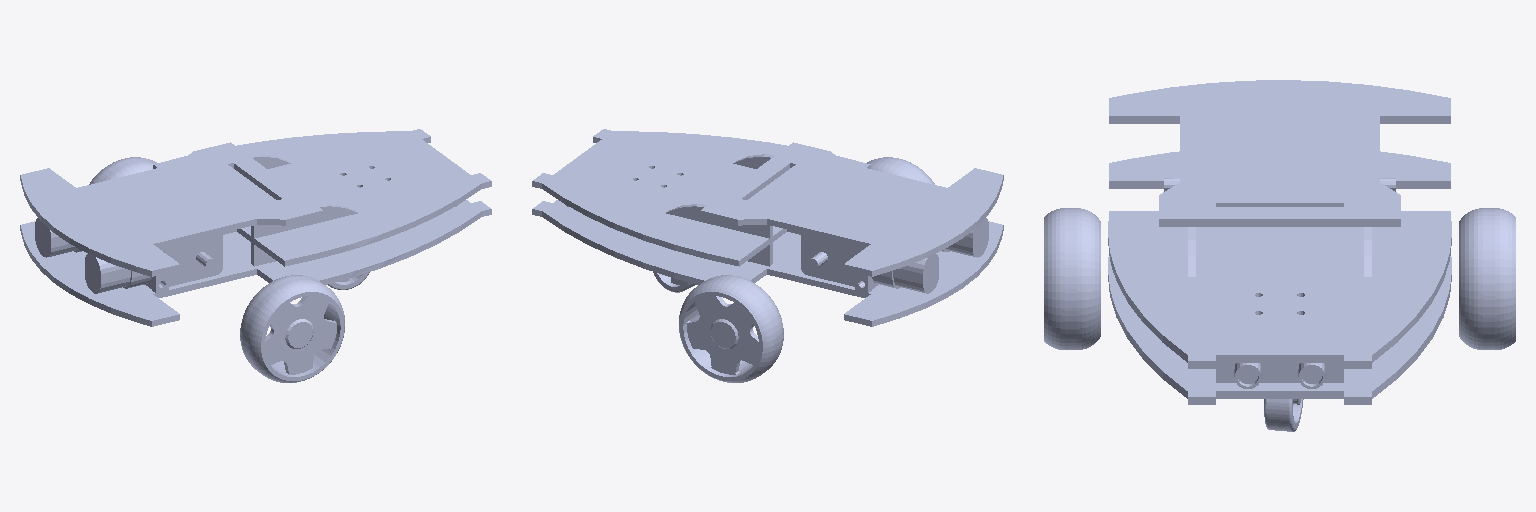
robot.urdf — my_robot_ver3:
<?xml version="1.0"?>
<!-- This URDF was automatically created by SolidWorks to URDF Exporter! Originally created by [author] ([email redacted]) 
     Commit Version: 1.6.0-4-g7f85cfe  Build Version: 1.6.7995.38578
     For more information, please see http://wiki.ros.org/sw_urdf_exporter -->
<robot
  name="my_robot_ver3">
  <link
    name="base_link">
    <inertial>
      <origin
        xyz="-0.0168237810190544 7.13458084972141E-09 -0.00760225410164192"
        rpy="0 0 0" />
      <mass
        value="0.0953373583617677" />
      <inertia
        ixx="5.94842863178214E-05"
        ixy="1.95289627130984E-11"
        ixz="-8.9958564906486E-07"
        iyy="9.86494627792786E-05"
        iyz="-1.60193586284062E-12"
        izz="0.000154178001735707" />
    </inertial>
    <visual>
      <origin
        xyz="0 0 0"
        rpy="0 0 0" />
      <geometry>
        <mesh
          filename="package://my_robot_ver3/meshes/base_link.STL" />
      </geometry>
      <material
        name="">
        <color
          rgba="0.792156862745098 0.819607843137255 0.933333333333333 1" />
      </material>
    </visual>
    <collision>
      <origin
        xyz="0 0 0"
        rpy="0 0 0" />
      <geometry>
        <mesh
          filename="package://my_robot_ver3/meshes/base_link.STL" />
      </geometry>
    </collision>
  </link>
  <link
    name="leftwheel">
    <inertial>
      <origin
        xyz="6.9389E-17 0 0.0064675"
        rpy="0 0 0" />
      <mass
        value="0.014896" />
      <inertia
        ixx="3.4328E-06"
        ixy="-1.3702E-22"
        ixz="2.8683E-21"
        iyy="3.4328E-06"
        iyz="-7.4454E-22"
        izz="6.1544E-06" />
    </inertial>
    <visual>
      <origin
        xyz="0 0 0"
        rpy="0 0 0" />
      <geometry>
        <mesh
          filename="package://my_robot_ver3/meshes/leftwheel.STL" />
      </geometry>
      <material
        name="">
        <color
          rgba="0.79216 0.81961 0.93333 1" />
      </material>
    </visual>
    <collision>
      <origin
        xyz="0 0 0"
        rpy="0 0 0" />
      <geometry>
        <mesh
          filename="package://my_robot_ver3/meshes/leftwheel.STL" />
      </geometry>
    </collision>
  </link>
  <joint
    name="left_wheel"
    type="continuous">
    <origin
      xyz="-0.018999 0.0808 -0.0141"
      rpy="1.5708 0 0" />
    <parent
      link="base_link" />
    <child
      link="leftwheel" />
    <axis
      xyz="0 0 -1" />
    <limit
      effort="10"
      velocity="10" />
    <dynamics
      damping="0.1"
      friction="0.1" />
  </joint>
  <link
    name="rightwheel">
    <inertial>
      <origin
        xyz="0 -5.5511E-17 -0.0064675"
        rpy="0 0 0" />
      <mass
        value="0.014896" />
      <inertia
        ixx="3.4328E-06"
        ixy="2.8475E-22"
        ixz="4.5719E-22"
        iyy="3.4328E-06"
        iyz="3.0947E-21"
        izz="6.1544E-06" />
    </inertial>
    <visual>
      <origin
        xyz="0 0 0"
        rpy="0 0 0" />
      <geometry>
        <mesh
          filename="package://my_robot_ver3/meshes/rightwheel.STL" />
      </geometry>
      <material
        name="">
        <color
          rgba="0.79216 0.81961 0.93333 1" />
      </material>
    </visual>
    <collision>
      <origin
        xyz="0 0 0"
        rpy="0 0 0" />
      <geometry>
        <mesh
          filename="package://my_robot_ver3/meshes/rightwheel.STL" />
      </geometry>
    </collision>
  </link>
  <joint
    name="right_wheel"
    type="continuous">
    <origin
      xyz="-0.018999 -0.0808 -0.0141"
      rpy="1.5708 0 0" />
    <parent
      link="base_link" />
    <child
      link="rightwheel" />
    <axis
      xyz="0 0 1" />
    <limit
      effort="10"
      velocity="10" />
    <dynamics
      damping="0.1"
      friction="0.1" />
  </joint>
  <link
    name="conquay">
    <inertial>
      <origin
        xyz="-0.0028851 0.00054871 -0.010118"
        rpy="0 0 0" />
      <mass
        value="0.00084993" />
      <inertia
        ixx="6.8227E-08"
        ixy="-4.9992E-10"
        ixz="-1.6544E-08"
        iyy="6.5695E-08"
        iyz="3.1461E-09"
        izz="3.908E-08" />
    </inertial>
    <visual>
      <origin
        xyz="0 0 0"
        rpy="0 0 0" />
      <geometry>
        <mesh
          filename="package://my_robot_ver3/meshes/conquay.STL" />
      </geometry>
      <material
        name="">
        <color
          rgba="0.79216 0.81961 0.93333 1" />
      </material>
    </visual>
    <collision>
      <origin
        xyz="0 0 0"
        rpy="0 0 0" />
      <geometry>
        <mesh
          filename="package://my_robot_ver3/meshes/conquay.STL" />
      </geometry>
    </collision>
  </link>
  <joint
    name="con_quay"
    type="continuous">
    <origin
      xyz="0.058851 0 -0.003"
      rpy="0 0 0" />
    <parent
      link="base_link" />
    <child
      link="conquay" />
    <axis
      xyz="0 0 1" />
    <limit
      effort="10"
      velocity="10" />
    <dynamics
      damping="0.1"
      friction="0.1" />
  </joint>
  <link
    name="wheelmini">
    <inertial>
      <origin
        xyz="-0.00037366 1.3878E-17 0.0019648"
        rpy="0 0 0" />
      <mass
        value="0.0031218" />
      <inertia
        ixx="1.7079E-07"
        ixy="3.8469E-22"
        ixz="-2.3606E-08"
        iyy="1.663E-07"
        iyz="2.1953E-22"
        izz="2.9043E-07" />
    </inertial>
    <visual>https://chatgpt.com/c/66ddbdff-d478-800b-9aae-3df0f9d6bf61
      <origin
        xyz="0 0 0"
        rpy="0 0 0" />
      <geometry>
        <mesh
          filename="package://my_robot_ver3/meshes/wheelmini.STL" />
      </geometry>
      <material
        name="">
        <color
          rgba="0.79216 0.81961 0.93333 1" />
      </material>
    </visual>
    <collision>
      <origin
        xyz="0 0 0"
        rpy="0 0 0" />
      <geometry>
        <mesh
          filename="package://my_robot_ver3/meshes/wheelmini.STL" />
      </geometry>
    </collision>
  </link>
  <joint
    name="wheel_mini"
    type="continuous">
    <origin
      xyz="-0.00748548418996223 0.00345941128543842 -0.0236000000000019"
      rpy="1.5707963267949 0 0" />
    <parent
      link="conquay" />
    <child
      link="wheelmini" />
    <axis
      xyz="0.186828263287934 0 -0.982392589567335" />
  </joint>
  <gazebo>
    <plugin name="two_wheeled_robot_diff_drive" filename="libgazebo_ros_diff_drive.so">
 
      <update_rate>100</update_rate>
      
      <!-- wheels -->
      <left_joint>left_wheel</left_joint>
      <right_joint>right_wheel</right_joint>
 
      <!-- kinematics -->
      <wheel_separation>0.15</wheel_separation>
      <wheel_diameter>0.06</wheel_diameter>
 
      <!-- limits -->
      <max_wheel_torque>20</max_wheel_torque>
      <max_wheel_acceleration>20.0</max_wheel_acceleration>
 
      <!-- Receive velocity commands on this ROS topic -->
      <command_topic>cmd_vel</command_topic>
 
      <!-- output -->
      <!-- When false, publish no wheel odometry data to a ROS topic -->
      <publish_odom>true</publish_odom>
 
      <!-- When true, publish coordinate transform from odom to base_footprint -->
      <!-- I usually use the robot_localization package to publish this transform -->  
      <publish_odom_tf>true</publish_odom_tf>
     
      <!-- When true, publish coordinate transform from base_link to the wheels -->
      <!-- The robot_state_publisher package is often used to publish this transform -->  
      <publish_wheel_tf>true</publish_wheel_tf>
 
      <odometry_topic>odom</odometry_topic>
      <odometry_frame>odom_link</odometry_frame>
      <robot_base_frame>base_link</robot_base_frame>
 
      <odometry_source>1</odometry_source>
      <ros>
        <remapping>odom:=wheel/odometry</remapping>
      </ros>
      </plugin>
    </gazebo>

  <gazebo>
      <plugin name="gazebo_ros_joint_state_publisher"
          filename="libgazebo_ros_joint_state_publisher.so">
          <update_rate>100</update_rate>
          <joint_name>left_wheel</joint_name>
          <joint_name>right_wheel</joint_name>
      </plugin>
  </gazebo>
</robot>

--- Facts derived from the render (not from the file) ---
3 views of the same robot in one strip: view 1: azimuth 30°, elevation 25°; view 2: azimuth 150°, elevation 25°; view 3: azimuth 270°, elevation 25° (orthographic).
Model my_robot_ver3 with 5 links and 4 joints (4 continuous), rooted at base_link, posed all joints at 0.
Visible links, largest first — view 1: base_link, rightwheel, leftwheel; view 2: base_link, leftwheel, rightwheel; view 3: base_link, leftwheel, rightwheel, wheelmini.
Boxes of the visible links, left/top/right/bottom form: base_link: left=20, top=129, right=491, bottom=326; rightwheel: left=240, top=275, right=344, bottom=382; leftwheel: left=89, top=157, right=156, bottom=184; base_link: left=532, top=129, right=1003, bottom=326; leftwheel: left=679, top=275, right=783, bottom=382; rightwheel: left=867, top=157, right=934, bottom=184; base_link: left=1108, top=80, right=1451, bottom=404; leftwheel: left=1459, top=208, right=1515, bottom=349; rightwheel: left=1044, top=208, right=1100, bottom=349; wheelmini: left=1264, top=399, right=1303, bottom=431.
Bounding box of the posed robot: 0.21 × 0.1656 × 0.0643 m (x, y, z).
5 mesh visuals loaded from 5 distinct referenced files (5 binary STL).
